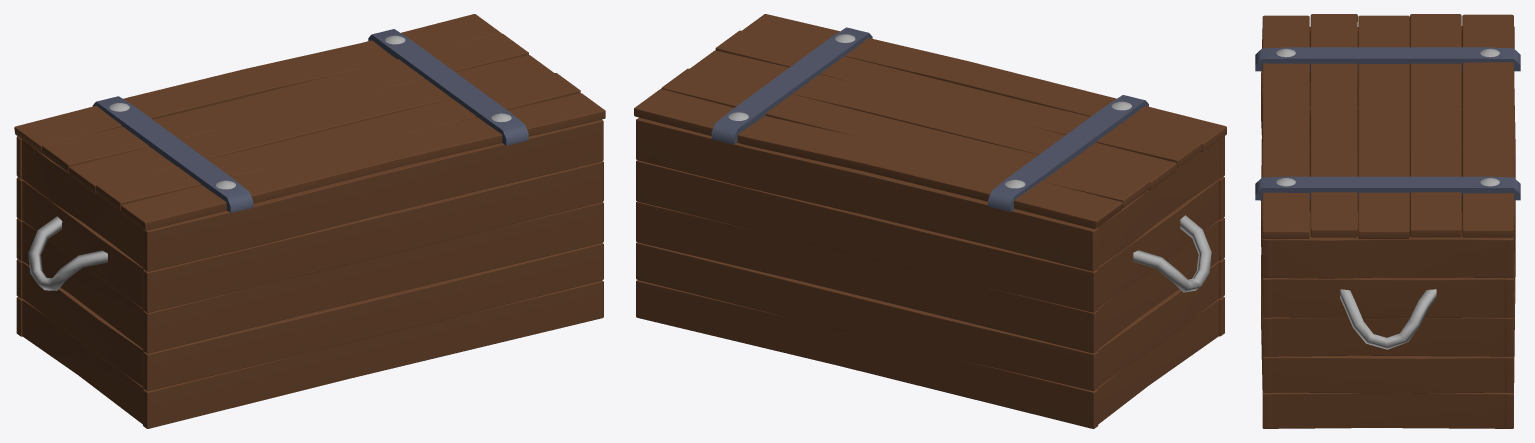
Rendered from Casket_closed.fbx.
The picture shows the model from 3 angles, left to right: view 1: azimuth 30°, elevation 25°; view 2: azimuth 150°, elevation 25°; view 3: azimuth 270°, elevation 25°; orthographic projection. The views are drawn at different scales.
Visible parts, largest first — view 1: Casket_closed; view 2: Casket_closed; view 3: Casket_closed.
Part boxes in pixels (bbox=[...]): Casket_closed: bbox=[14, 14, 605, 428]; Casket_closed: bbox=[634, 14, 1226, 428]; Casket_closed: bbox=[1255, 14, 1520, 428].
Size of the model in its own units: 118 by 45.26 by 52.1.
